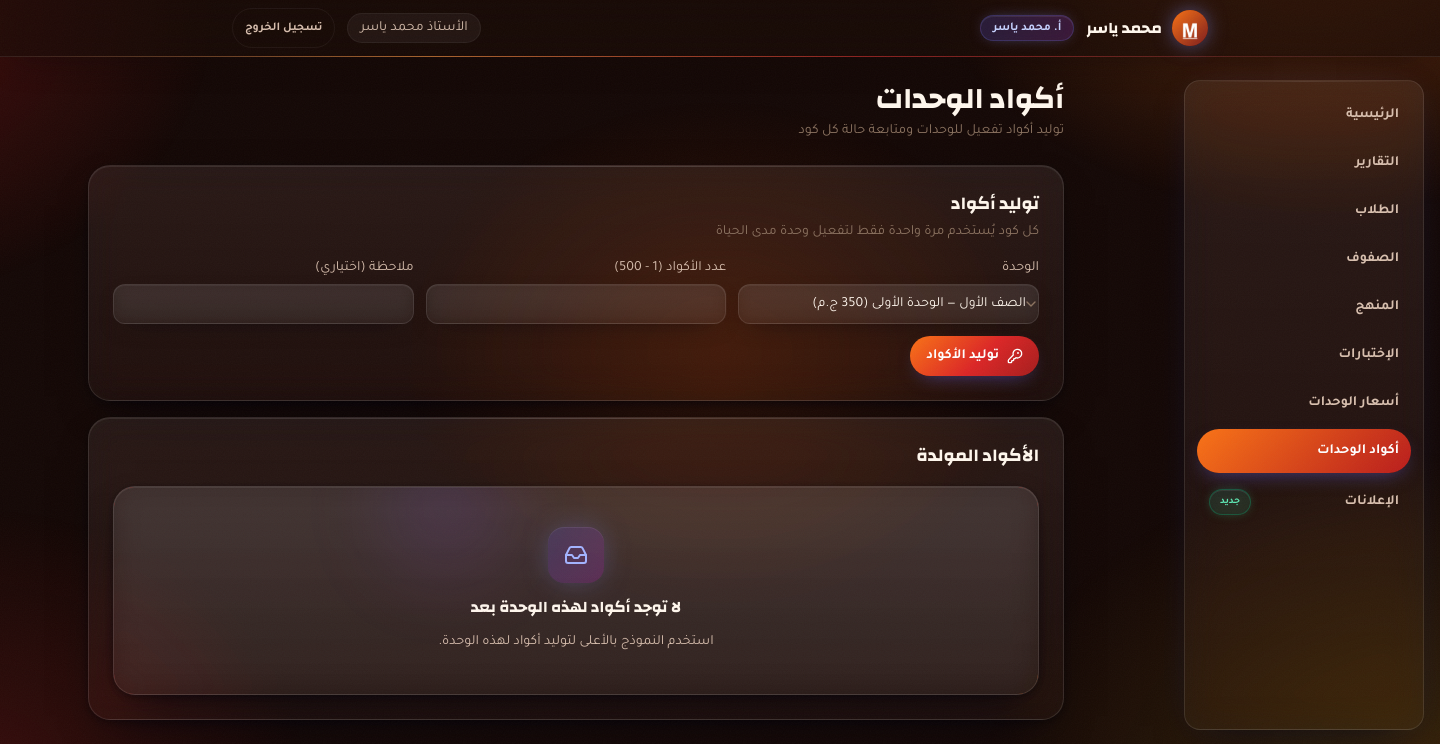
CodesPage › falls back to execCommand when the clipboard API is unavailable
In the number field labelled "عدد الأكواد (1 - 500)": (576, 304) [426,284,726,324], type "2"
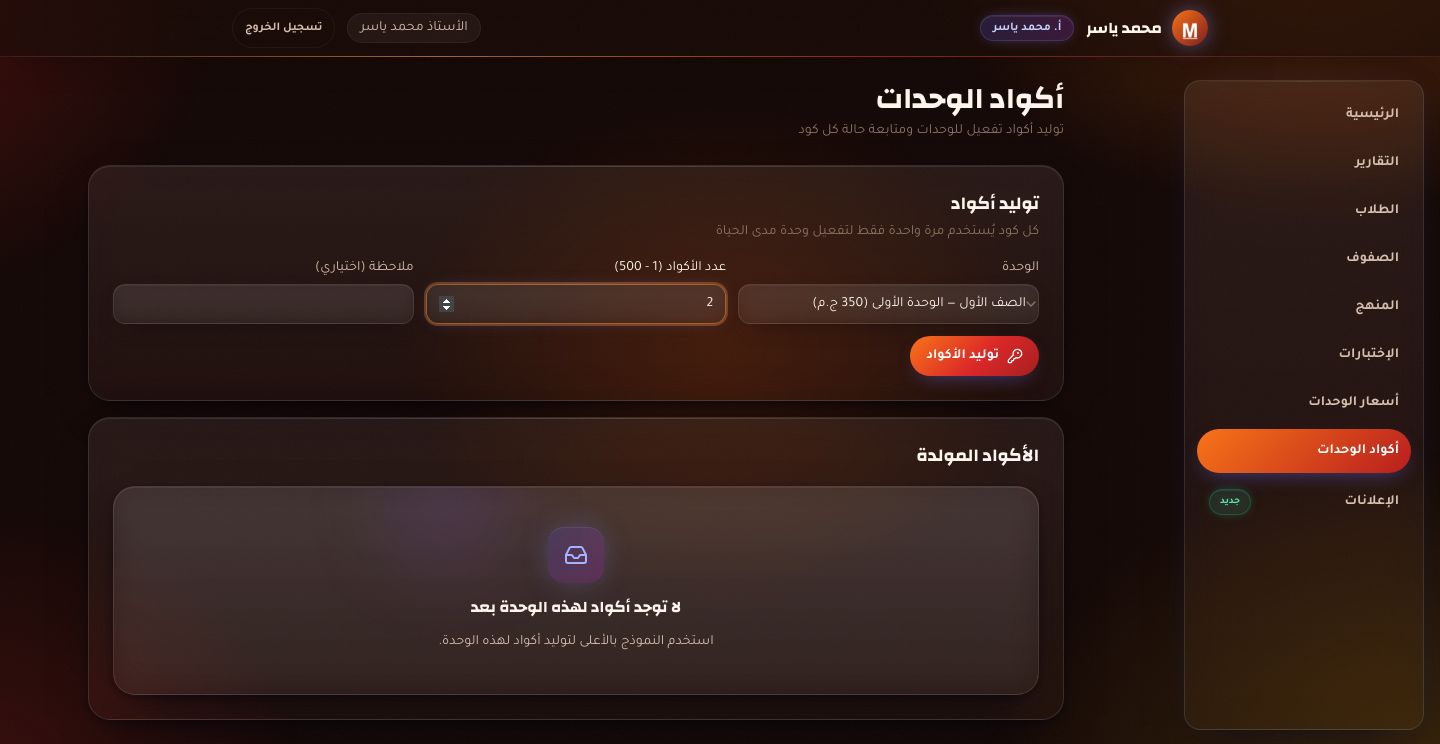
Click the button "توليد الأكواد": (975, 356) [910,336,1039,376]
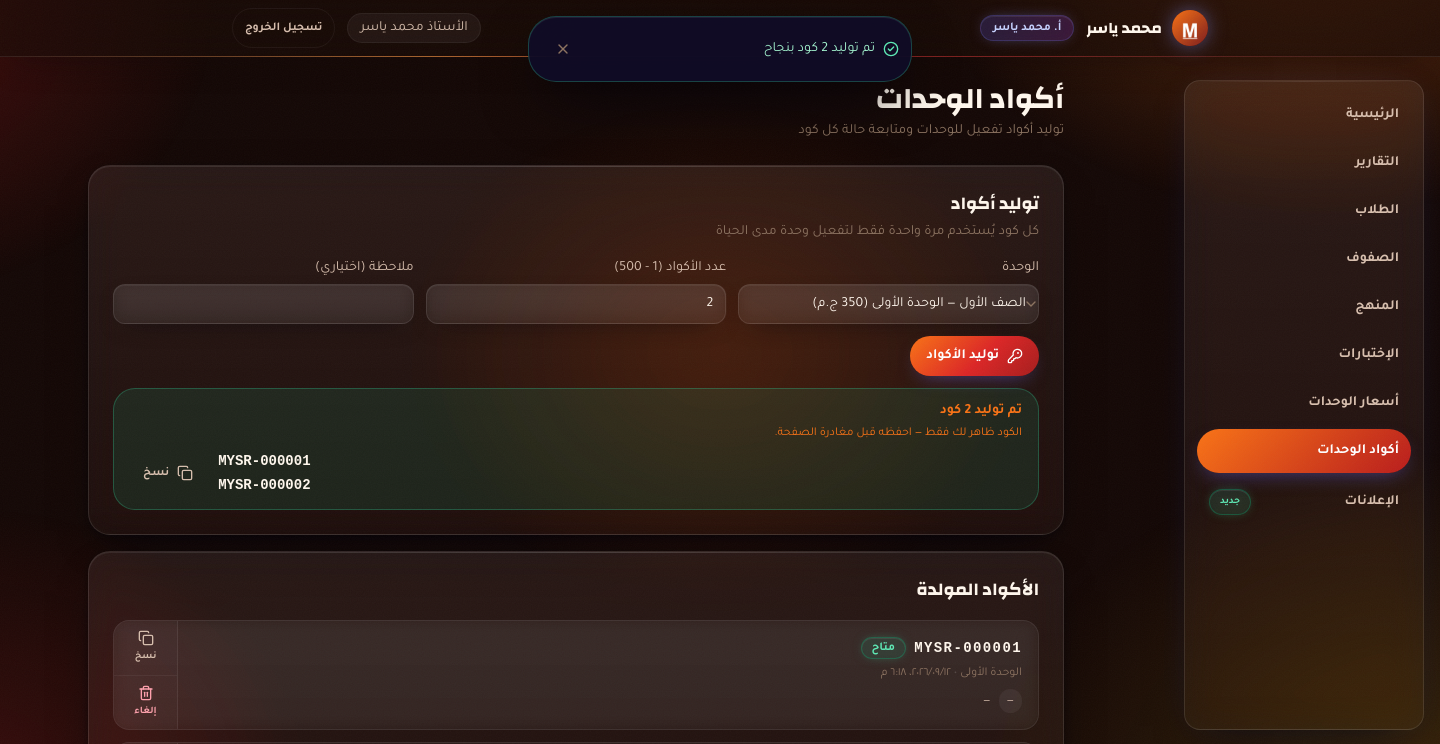
Click the button "نسخ" next to "MYSR-000001 MYSR-000002": (168, 473) [130,453,206,493]
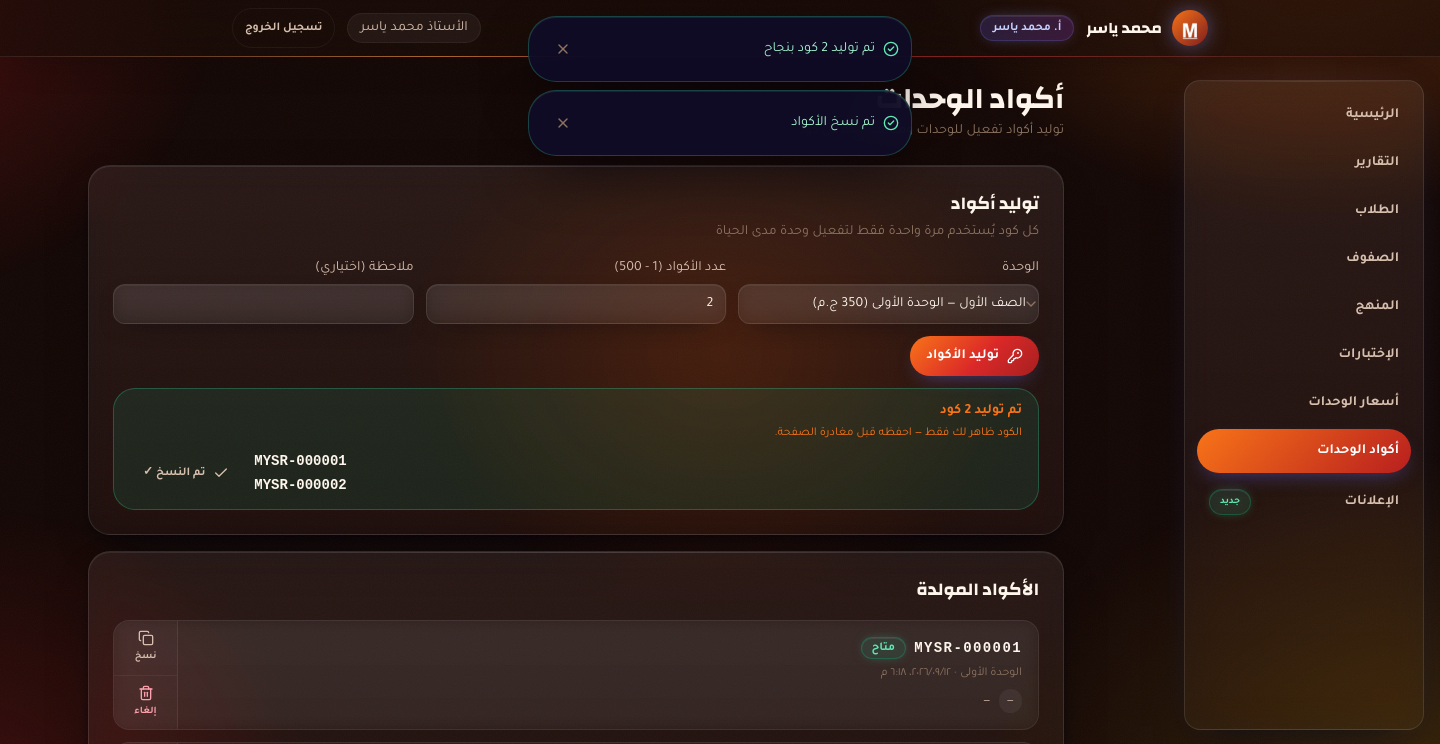
Now the text "تم نسخ الأكواد" is shown, box [791,116,875,130]
Now the button "تم النسخ ✓" is shown, box [130,453,242,493]
